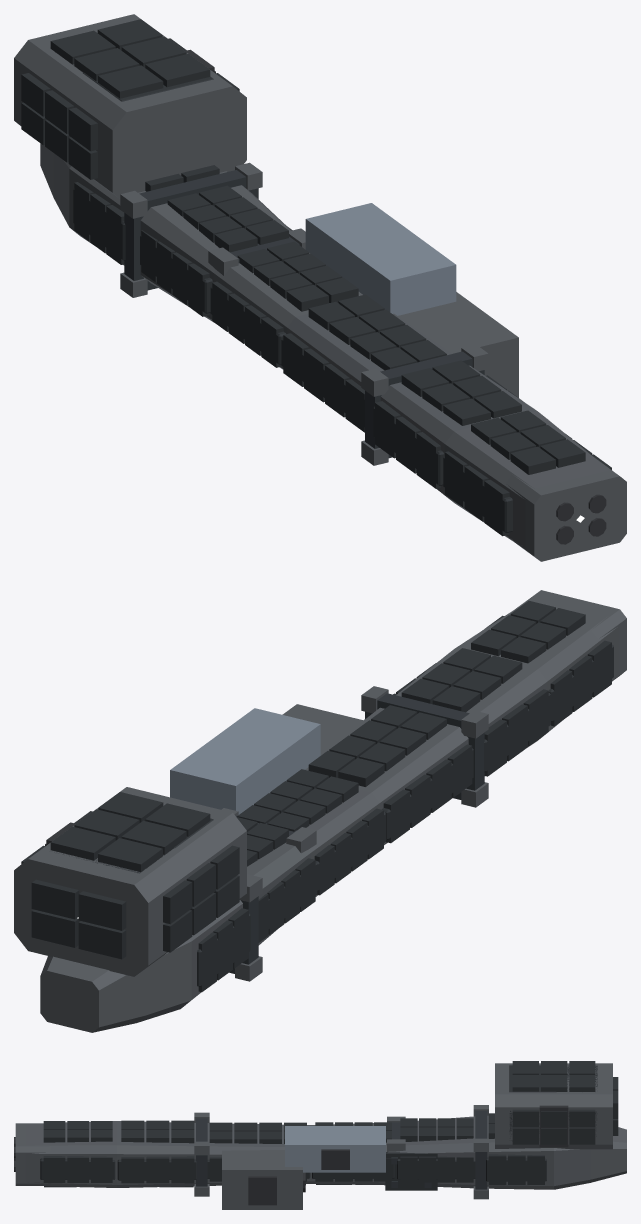
The picture shows the model from 3 angles, top to bottom: view 1: azimuth 30°, elevation 25°; view 2: azimuth 150°, elevation 25°; view 3: azimuth 270°, elevation 25°; orthographic projection. The views are drawn at different scales.
Visible parts, largest first — view 1: RIMWARD_HULL; view 2: RIMWARD_HULL; view 3: RIMWARD_HULL.
Boxes of the visible parts, left/top/right/bottom form: RIMWARD_HULL: left=14, top=14, right=626, bottom=561; RIMWARD_HULL: left=14, top=590, right=626, bottom=1032; RIMWARD_HULL: left=14, top=1061, right=626, bottom=1209.
Size of the model in its own units: 1.56 by 1.39 by 7.27.
